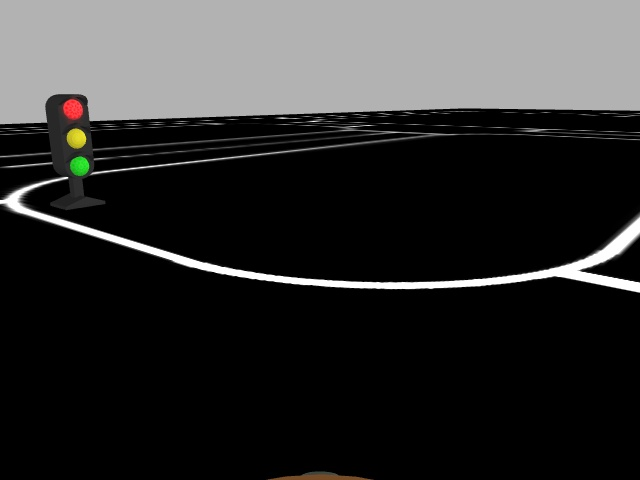red_light: (55, 95, 95, 177)
